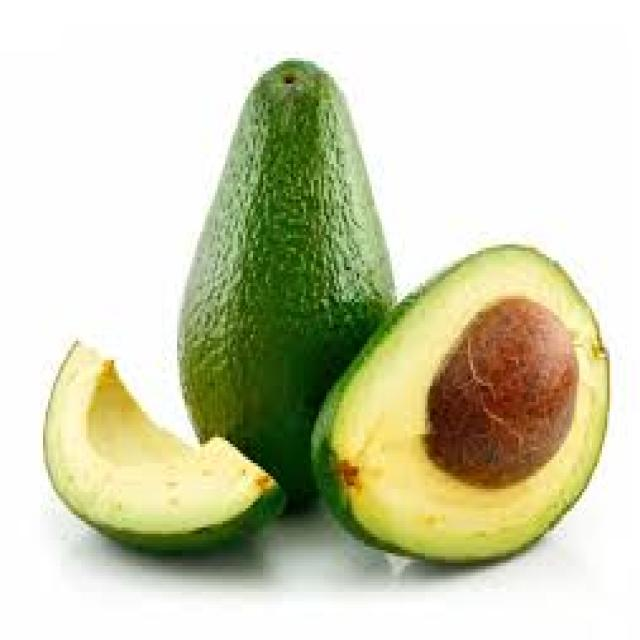avocado: (303, 209, 618, 575), (175, 39, 387, 509), (36, 295, 289, 598)
